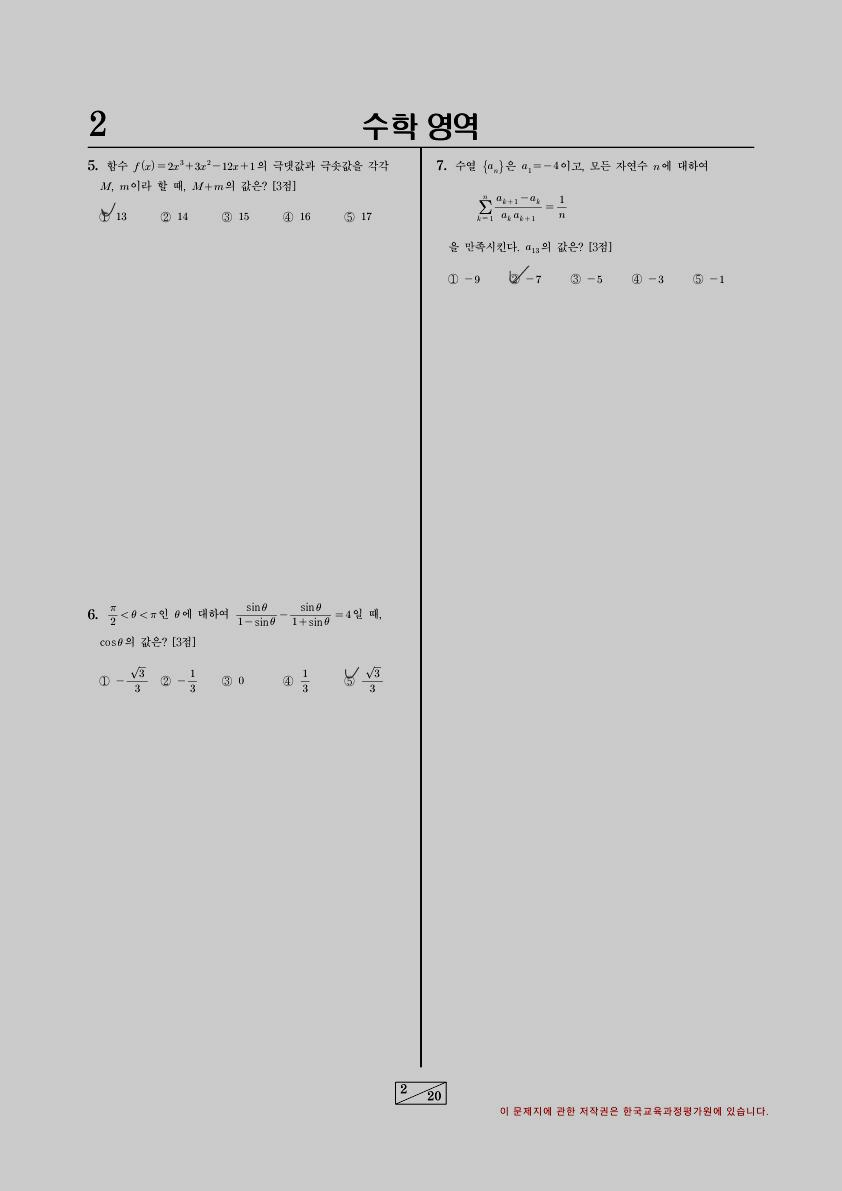question: (430, 149, 739, 304), (71, 594, 397, 717), (74, 151, 407, 243)
